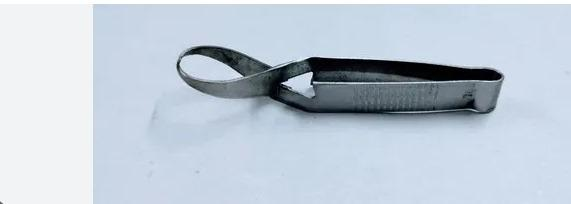Doyen Cross Action Towel Clamp: (173, 39, 507, 120)
